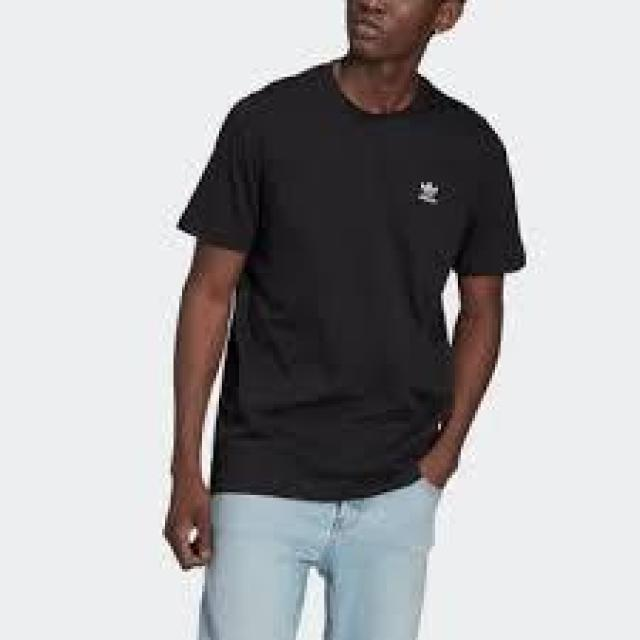Tshirt: (174, 60, 529, 503)
